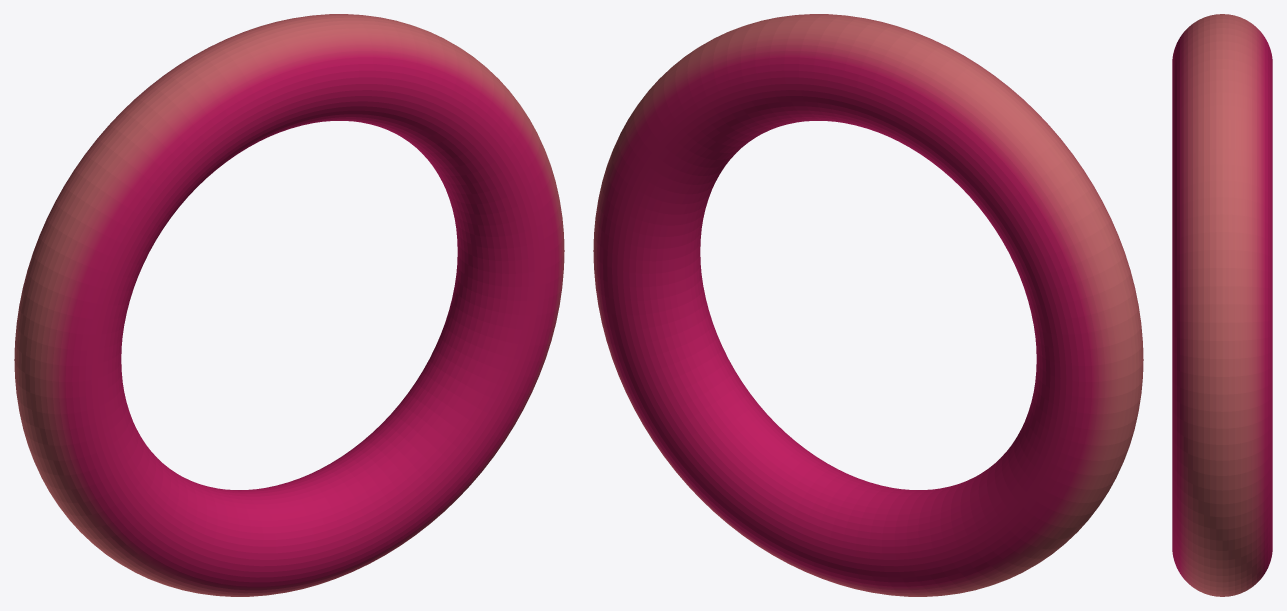
3 renders of one model, left to right at view 1: azimuth 30°, elevation 25°; view 2: azimuth 150°, elevation 25°; view 3: azimuth 270°, elevation 25°, orthographic. The views are drawn at different scales.
Visible parts, largest first — view 1: world; view 2: world; view 3: world.
Part boxes in pixels (bbox=[...]): world: bbox=[14, 14, 564, 596]; world: bbox=[593, 14, 1143, 596]; world: bbox=[1172, 14, 1272, 596].
Bounding box in the file's own units: 36.27 × 36.27 × 6.25.
